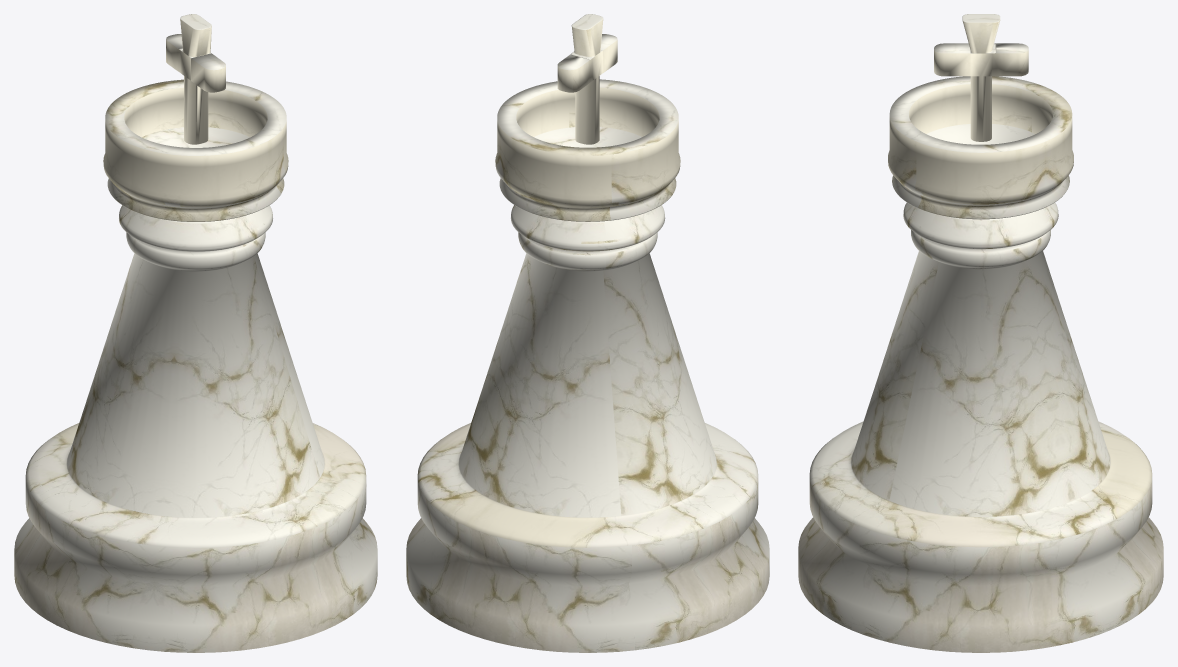
Rendered from outlining.gltf.
The picture shows the model from 3 angles, left to right: view 1: azimuth 30°, elevation 25°; view 2: azimuth 150°, elevation 25°; view 3: azimuth 270°, elevation 25°; orthographic projection.
Parts seen in each view (by area): view 1: KingWhite; view 2: KingWhite; view 3: KingWhite.
Boxes of the visible parts, x1,y1,x2,y2 form: KingWhite: (14,14,377,652); KingWhite: (406,14,769,652); KingWhite: (798,14,1163,652).
Bounding box in the file's own units: 0.0218 × 0.0367 × 0.0218.
1 material, 1 textured.
